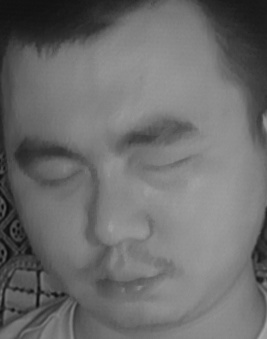blink: (141, 148, 197, 180), (34, 164, 87, 197)
mouth: (84, 257, 169, 307)
